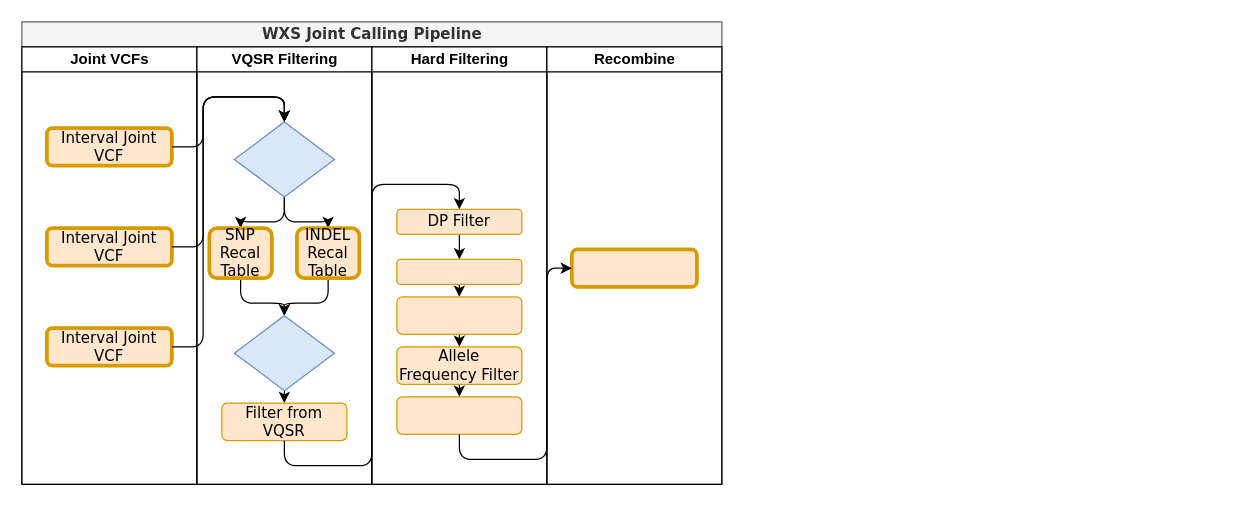
This 1235x506 diagram has some shape labels left out. Here are the shapes that lost their labels. From the top down, the centre of each, then its label:
At (x=283, y=159): "VariantRecalibrator".
At (x=459, y=271): "LCR Filter".
At (x=633, y=267): "Cleaned Chr Joint VCF".
At (x=459, y=315): "Non-Variant Filter".
At (x=283, y=352): "ApplyVQSR".
At (x=459, y=415): "Allele Balance Filter".
